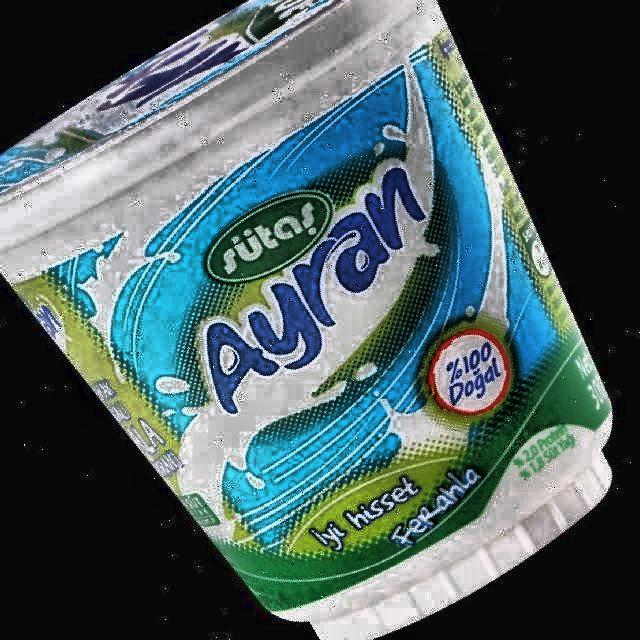plastic: (0, 0, 610, 640)
